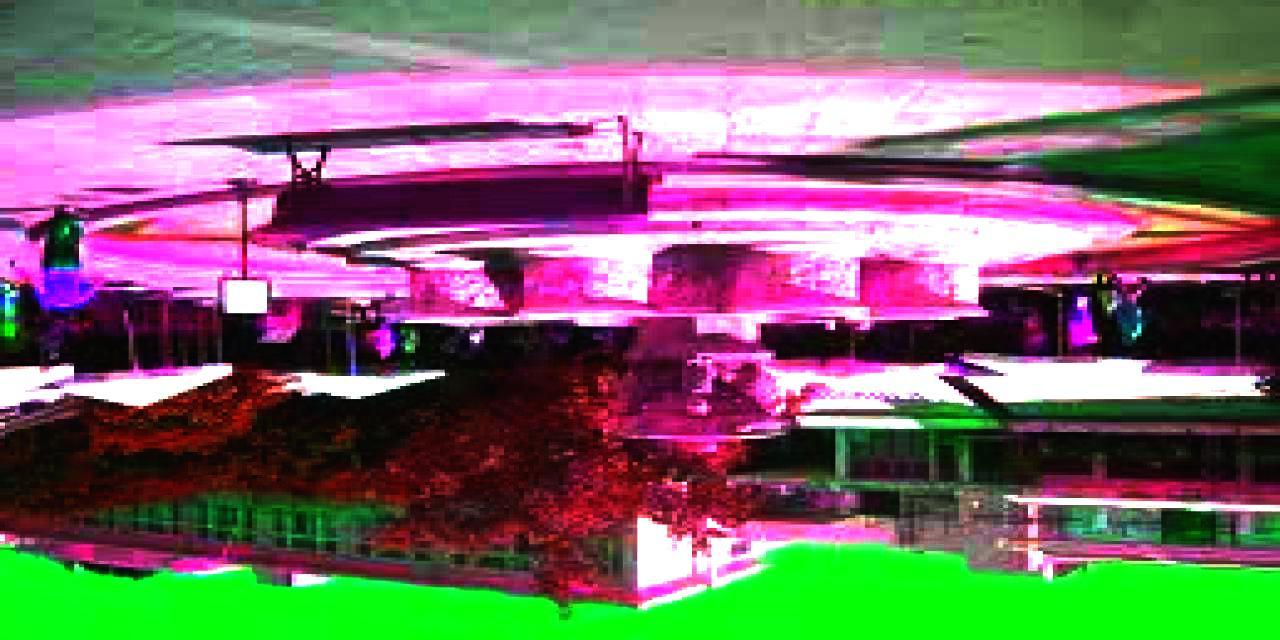Liontaria: (399, 237, 986, 435)
